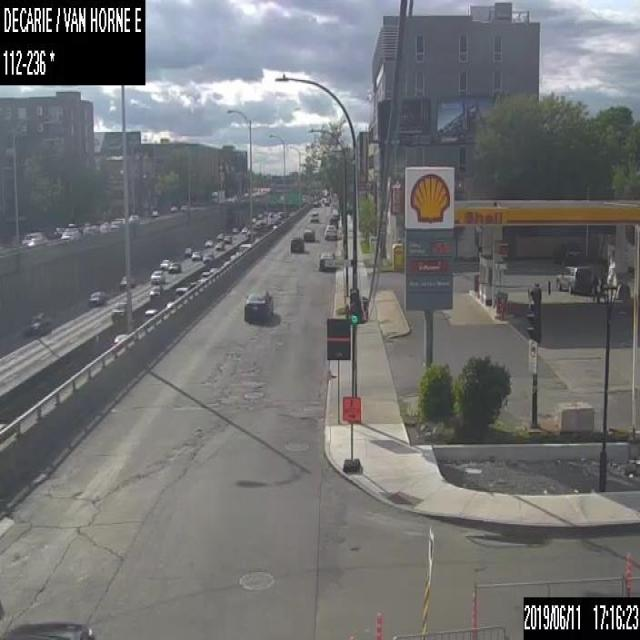construction: (522, 594, 639, 638), (341, 394, 360, 472), (373, 613, 382, 639)
vehicle: (1, 617, 94, 639), (242, 287, 274, 320), (556, 265, 592, 294), (24, 308, 54, 335), (560, 248, 580, 268), (60, 222, 79, 240), (318, 252, 336, 270), (20, 231, 44, 244), (88, 289, 106, 305), (111, 301, 126, 320), (111, 332, 128, 347), (289, 234, 303, 252), (119, 276, 136, 288), (150, 269, 164, 283), (324, 224, 336, 240), (210, 189, 224, 201), (148, 284, 162, 295), (127, 212, 139, 224), (304, 227, 314, 241), (145, 308, 156, 320), (327, 216, 337, 228), (159, 257, 169, 269), (203, 250, 213, 262), (168, 262, 180, 271), (191, 250, 201, 260), (309, 211, 319, 221), (331, 206, 339, 218), (183, 246, 192, 255), (214, 241, 224, 249), (204, 238, 212, 246), (216, 231, 224, 239), (151, 208, 159, 216), (223, 235, 231, 242), (168, 204, 176, 211), (231, 226, 238, 233), (240, 226, 248, 231)
